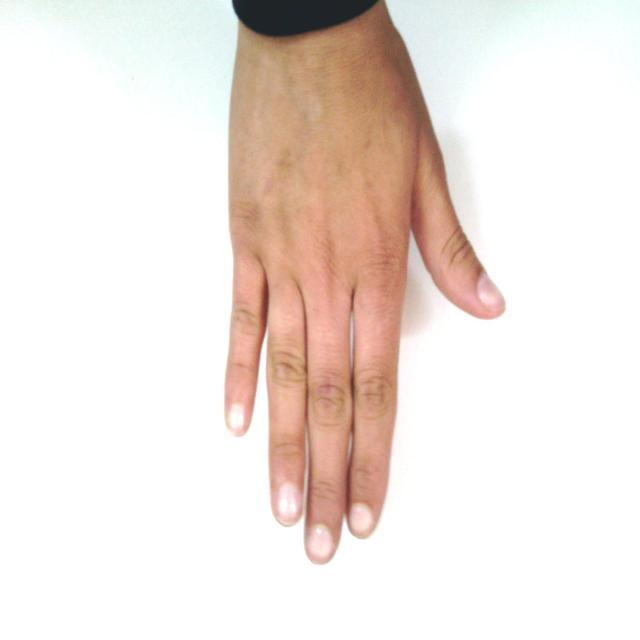Fingernail: (479, 274, 503, 310), (308, 528, 333, 560), (279, 485, 300, 522), (350, 504, 373, 536), (229, 405, 244, 431)
